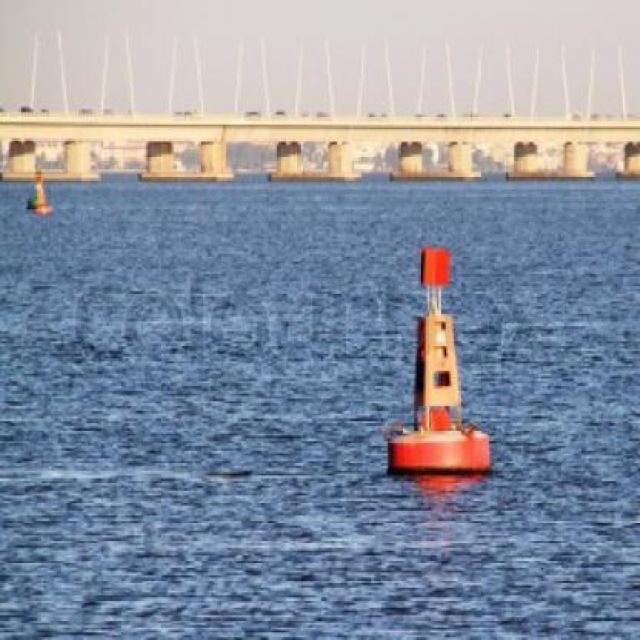buoy: (381, 233, 504, 487)
